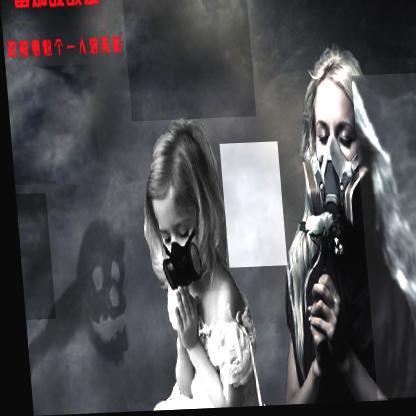smoke: (122, 0, 254, 123), (350, 79, 416, 265), (4, 65, 98, 185), (217, 144, 283, 270), (12, 193, 51, 320)
